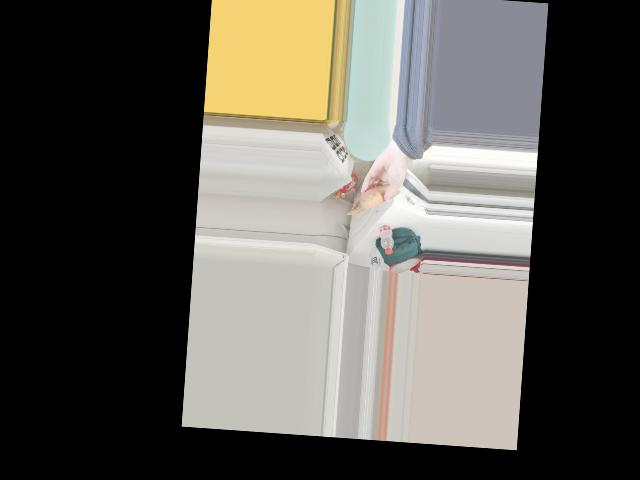sweet_potato: (361, 178, 395, 211)
